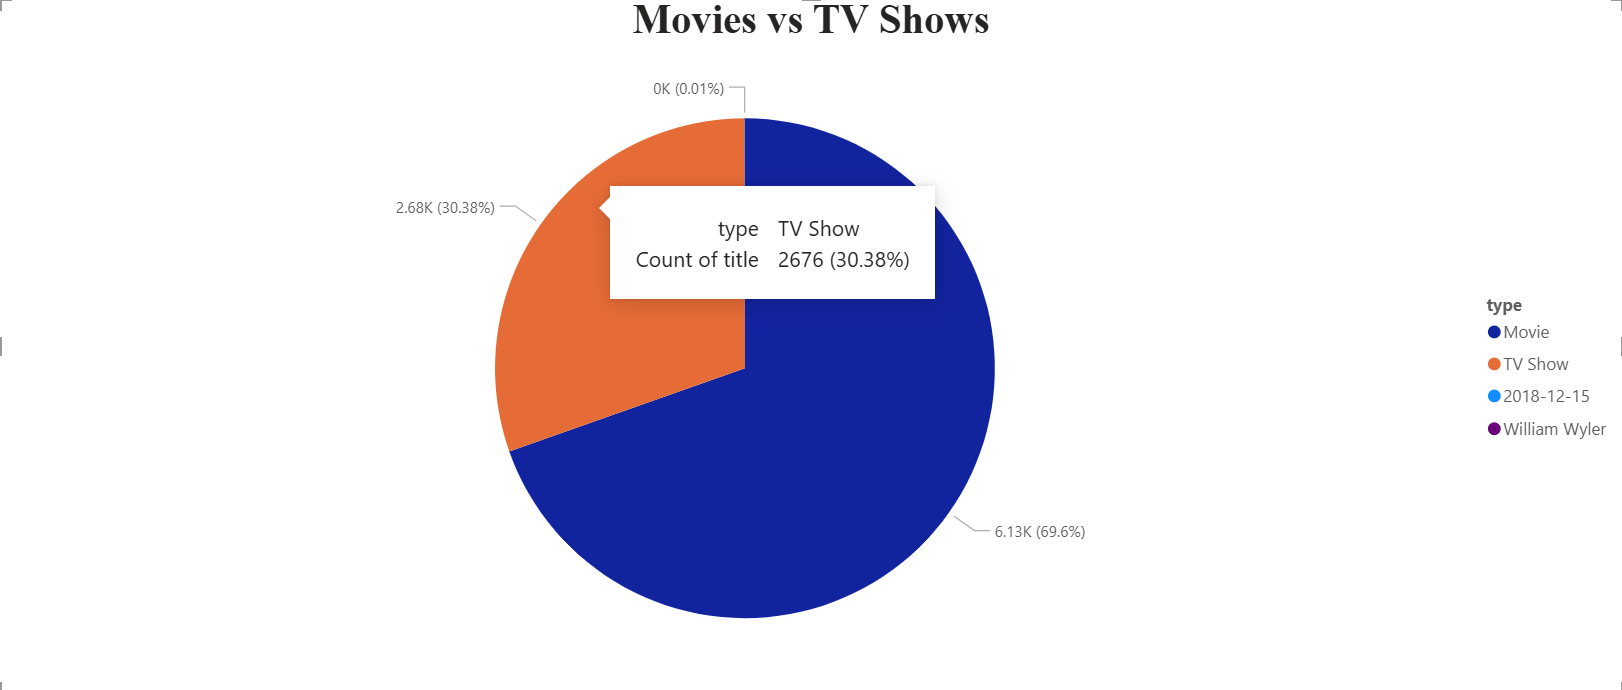

This screenshot's page, from the dashboard's own definition file:
{"tool":"powerbi","page":{"name":"Page 3","canvas":[1280,720],"ordinal":2},"visuals":[{"type":"pieChart","title":"Movies vs TV Shows","fields":{"Category":["netflix_cleaned_data.type"],"Y":["CountNonNull(netflix_cleaned_data.title)"]},"box":[0,0,1280,550],"z":0}]}

Visuals, with their boxes on the page's 1280x720 design canvas (x1, y1, x2, y2). These are canvas units, not pixel positions in the 1622x690 screenshot, which may show the page scaled, cropped or inside an application window:
"Movies vs TV Shows" pieChart: <bbox>0, 0, 1280, 550</bbox>
